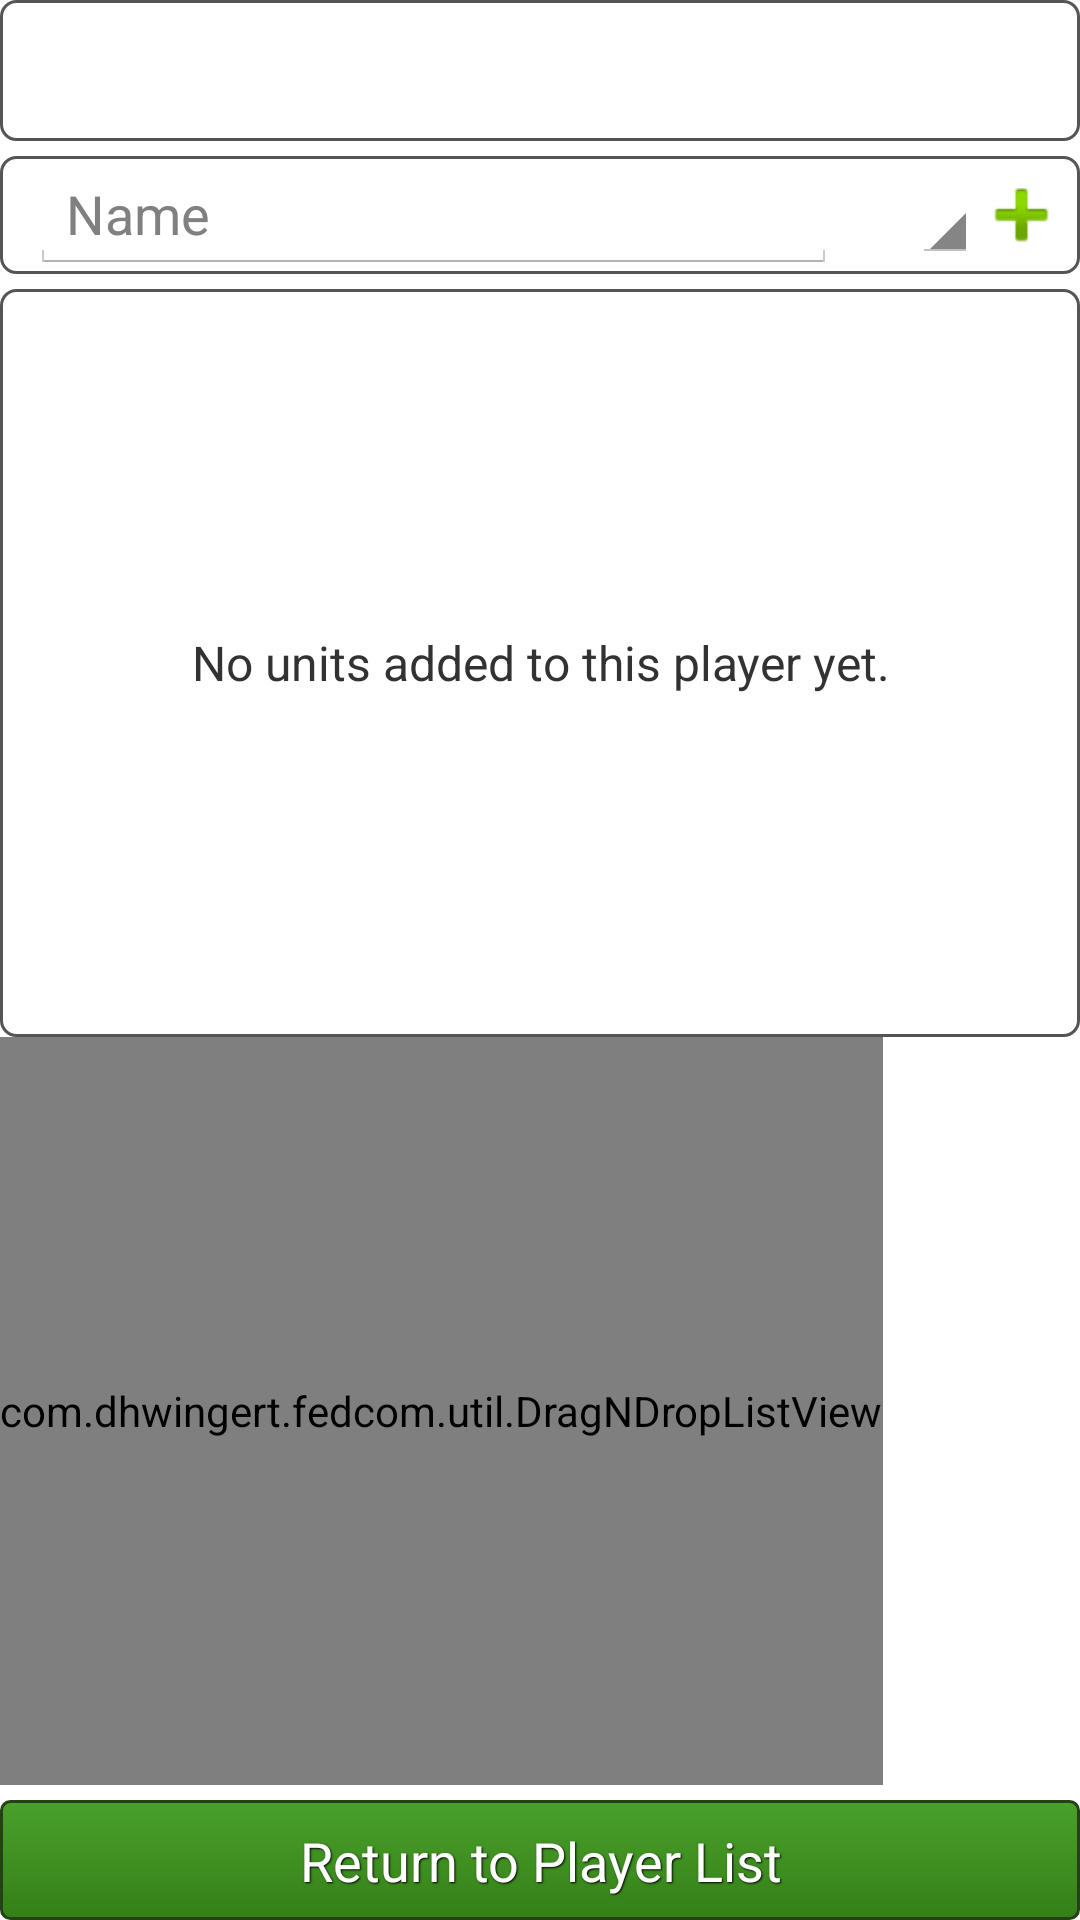

Screen size 1080x1920. Icon name, then its box in pixels as (x1, y1, x2, y2):
add: (994, 188, 1049, 242)
